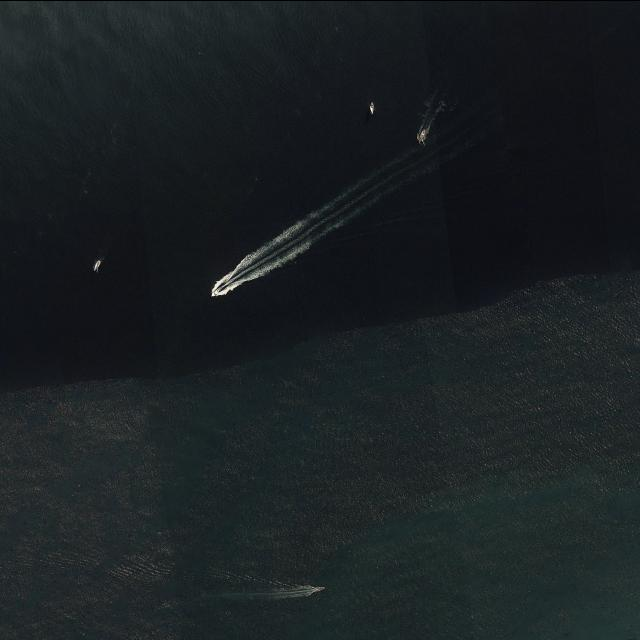ship: (418, 127, 428, 145), (93, 258, 101, 272), (369, 100, 375, 114), (210, 288, 220, 296), (319, 586, 325, 588)
